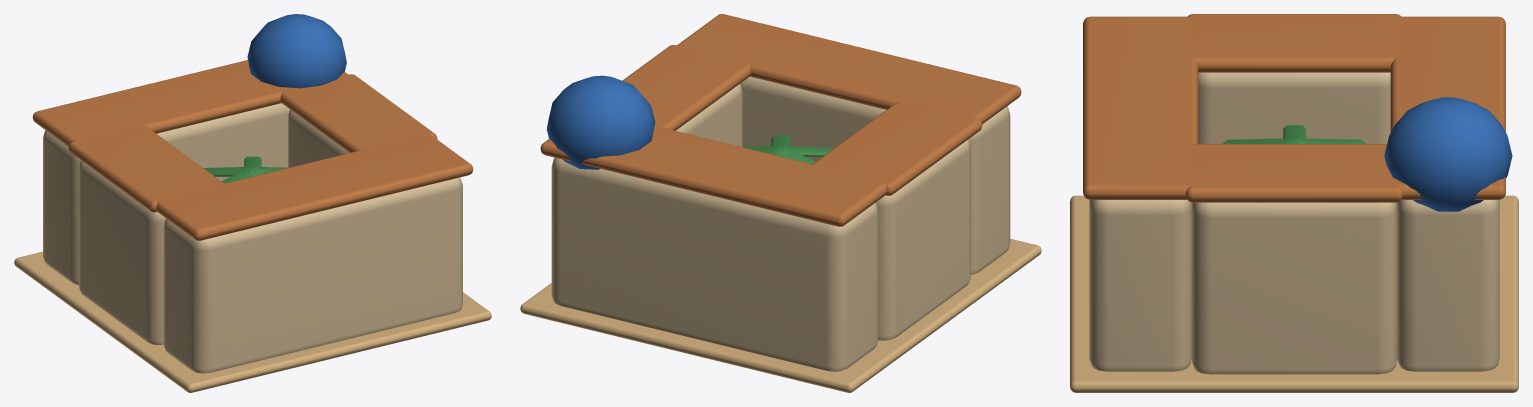
3 views of the same model, side by side, from view 1: azimuth 30°, elevation 25°; view 2: azimuth 150°, elevation 25°; view 3: azimuth 270°, elevation 25° (orthographic). The views are drawn at different scales.
Visible parts, largest first — view 1: Cube; view 2: Cube; view 3: Cube.
Part boxes in pixels (box(x1,y1,x2,y2)): Cube: box(14, 14, 491, 392); Cube: box(520, 14, 1041, 392); Cube: box(1070, 14, 1518, 392).
Size of the model in its own units: 0.7 by 0.45 by 0.7.
